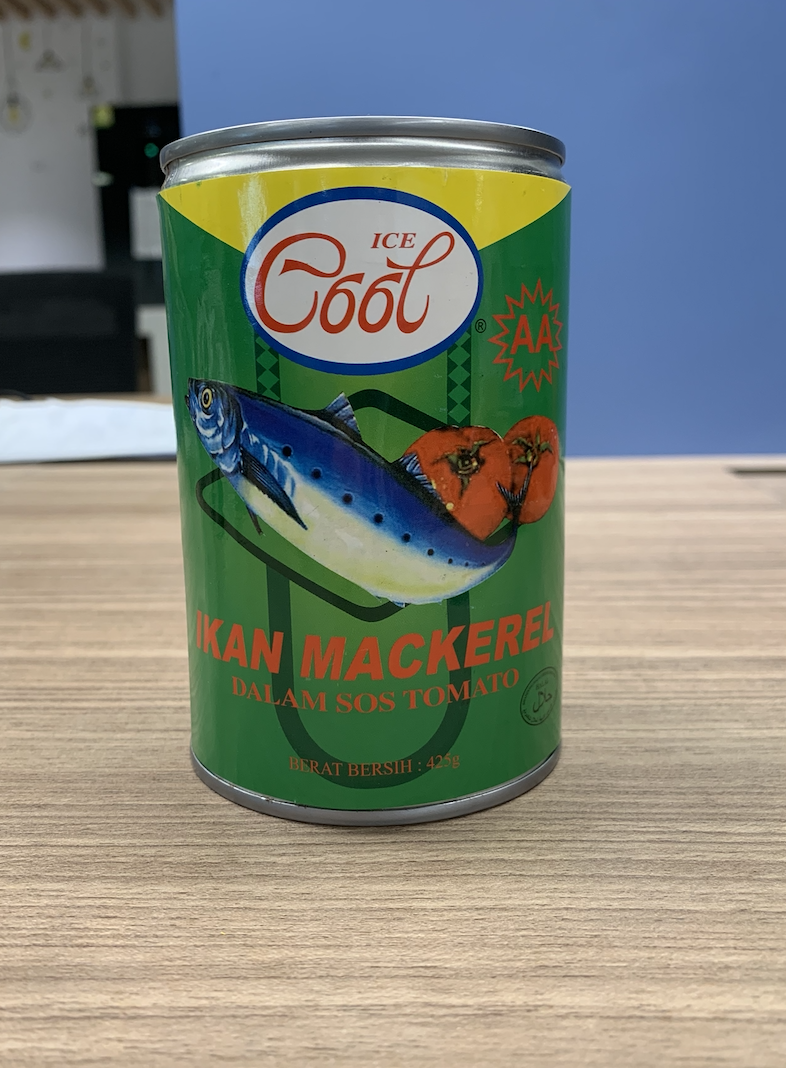sardines_450g: (184, 188, 559, 779)
